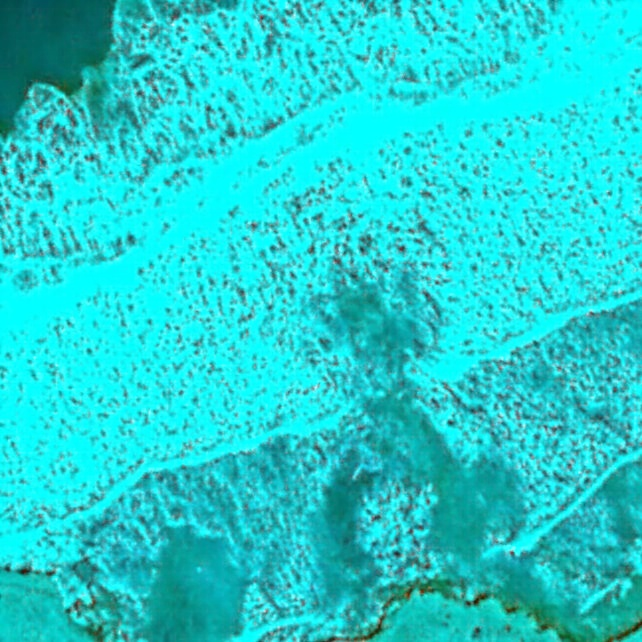rip_current: (215, 134, 489, 524)
